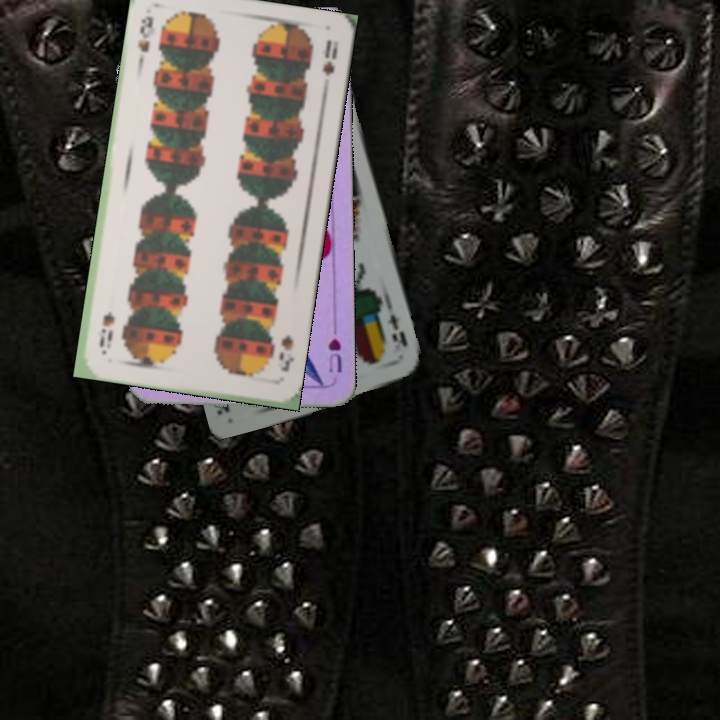EK: (382, 310, 410, 349)
HU: (324, 335, 344, 376)
S8: (134, 12, 158, 67), (274, 331, 297, 374)
